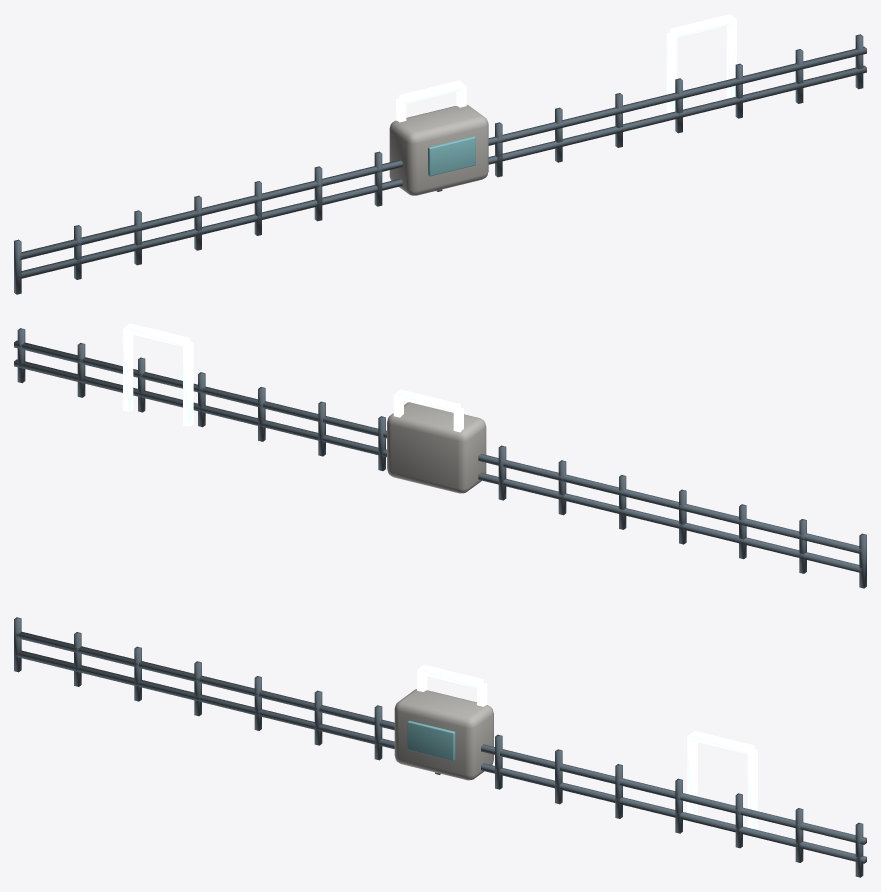
The model's file is scrutiny.glb.
3 views of the same model, one above another, from view 1: azimuth 30°, elevation 25°; view 2: azimuth 150°, elevation 25°; view 3: azimuth 330°, elevation 25° (orthographic).
Visible parts, largest first — view 1: Scrutiny__Campus__Fence, Scrutiny__Campus__Checkpoint, Scrutiny__Campus__ScanArch_02, Scrutiny__Campus__CheckpointGlass, Scrutiny__Campus__ScanArch_01; view 2: Scrutiny__Campus__Fence, Scrutiny__Campus__Checkpoint, Scrutiny__Campus__ScanArch_02, Scrutiny__Campus__ScanArch_01; view 3: Scrutiny__Campus__Fence, Scrutiny__Campus__Checkpoint, Scrutiny__Campus__ScanArch_02, Scrutiny__Campus__CheckpointGlass, Scrutiny__Campus__ScanArch_01.
Part boxes in pixels (x1,y1,x2,y2): Scrutiny__Campus__Fence: [14, 34, 866, 294]; Scrutiny__Campus__Checkpoint: [389, 105, 488, 195]; Scrutiny__Campus__ScanArch_02: [666, 14, 736, 113]; Scrutiny__Campus__CheckpointGlass: [428, 136, 475, 176]; Scrutiny__Campus__ScanArch_01: [396, 80, 466, 122]; Scrutiny__Campus__Fence: [14, 328, 866, 588]; Scrutiny__Campus__Checkpoint: [387, 402, 486, 493]; Scrutiny__Campus__ScanArch_02: [123, 323, 193, 426]; Scrutiny__Campus__ScanArch_01: [393, 389, 463, 432]; Scrutiny__Campus__Fence: [14, 617, 866, 877]; Scrutiny__Campus__Checkpoint: [394, 689, 493, 780]; Scrutiny__Campus__ScanArch_02: [687, 730, 757, 829]; Scrutiny__Campus__CheckpointGlass: [407, 720, 455, 760]; Scrutiny__Campus__ScanArch_01: [417, 665, 487, 706].
Bounding box in the file's own units: 28.28 × 2.96 × 1.5.
